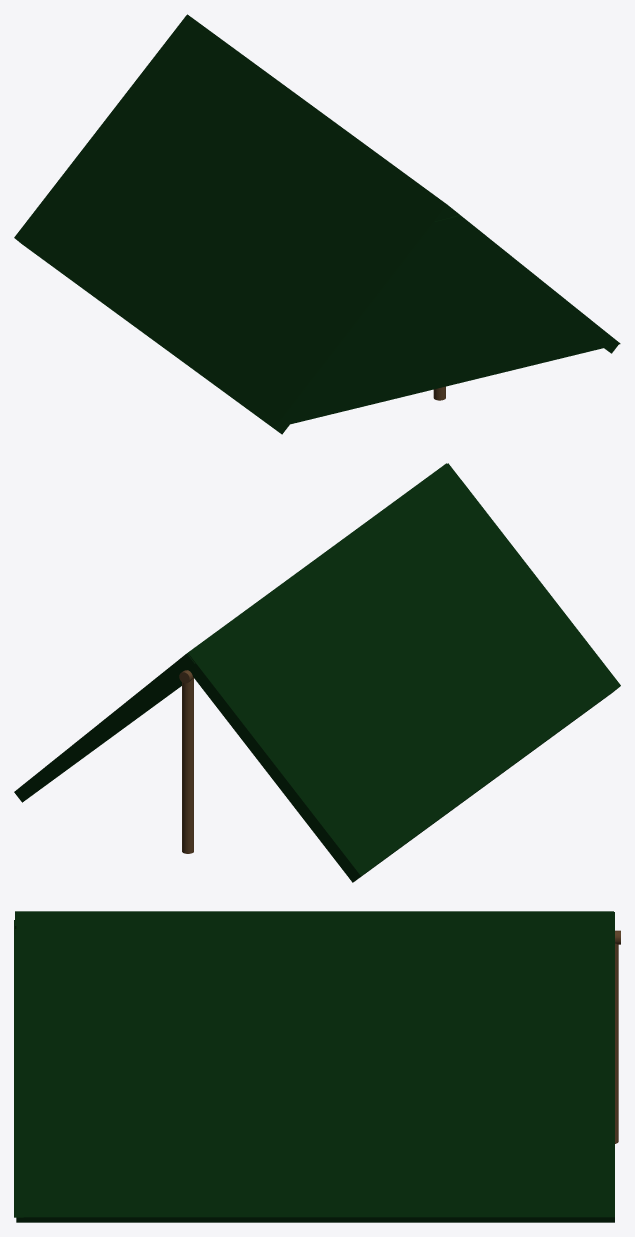
The model's file is Tent.fbx.
3 views of the same model, one above another, from view 1: azimuth 30°, elevation 25°; view 2: azimuth 150°, elevation 25°; view 3: azimuth 270°, elevation 25° (orthographic). The views are drawn at different scales.
Parts seen in each view (by area): view 1: Cylinder.002; view 2: Cylinder.002; view 3: Cylinder.002.
Boxes of the visible parts, x1,y1,x2,y2 form: Cylinder.002: (14,14,620,434); Cylinder.002: (14,463,620,882); Cylinder.002: (14,911,620,1222).
Bounding box in the file's own units: 462 × 254 × 608.
